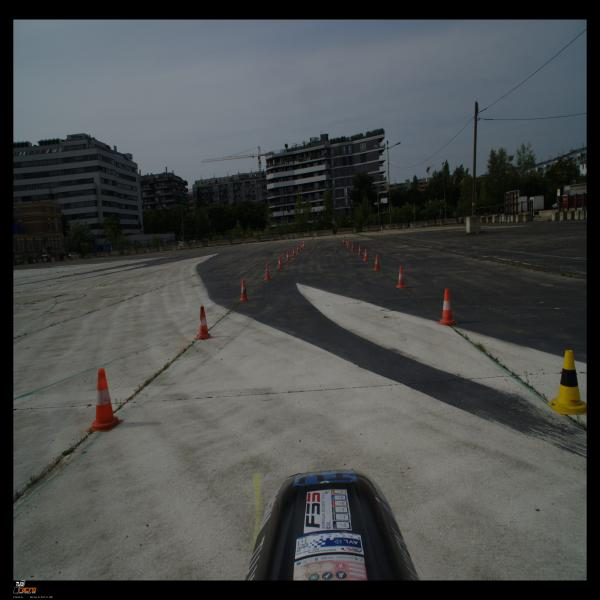large_orange_cone: (302, 240, 306, 248), (343, 236, 346, 244)
orange_cone: (86, 368, 124, 431), (437, 289, 458, 325), (194, 306, 213, 340), (238, 279, 251, 301), (396, 266, 407, 289), (373, 255, 382, 271), (264, 265, 272, 280), (277, 256, 283, 269), (363, 249, 368, 261), (286, 251, 291, 262), (358, 246, 362, 255), (292, 248, 296, 256), (296, 245, 300, 252), (351, 244, 354, 251), (347, 241, 350, 248), (345, 240, 348, 246), (300, 243, 303, 249)
yellow_cone: (547, 350, 587, 414)
